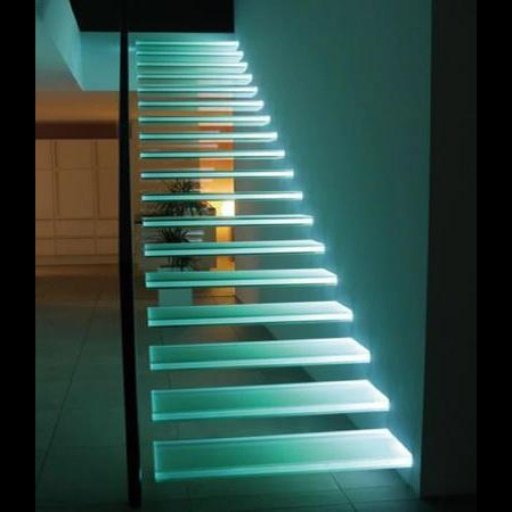Stairs: (132, 39, 413, 482)
